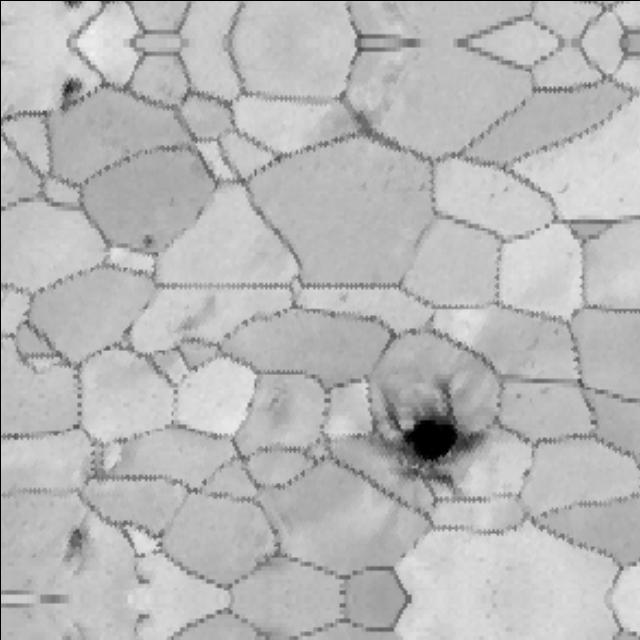good_void: (365, 371, 489, 485), (263, 385, 296, 439), (63, 515, 90, 571), (56, 73, 82, 103), (139, 230, 158, 248), (63, 625, 85, 640), (60, 0, 82, 9), (336, 291, 347, 301), (514, 389, 523, 401)
